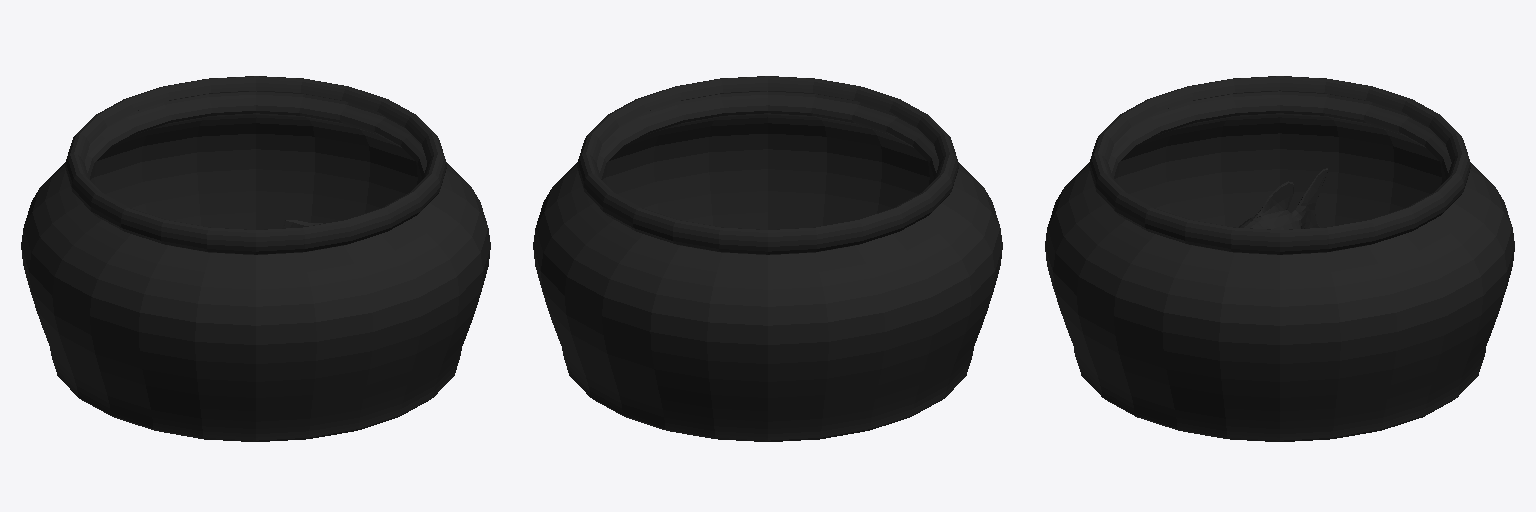
Rendered from Fishbowl.obj.
3 views of the same model, side by side, from view 1: azimuth 30°, elevation 25°; view 2: azimuth 150°, elevation 25°; view 3: azimuth 270°, elevation 25° (orthographic).
Visible parts, largest first — view 1: Bowl1; view 2: Bowl1; view 3: Bowl1, Goldfish1.
Boxes of the visible parts, x1,y1,x2,y2 form: Bowl1: [21, 76, 490, 441]; Bowl1: [533, 76, 1002, 441]; Bowl1: [1045, 76, 1514, 441]; Goldfish1: [1236, 168, 1327, 229].
Size of the model in its own units: 46.46 by 22.39 by 46.46.